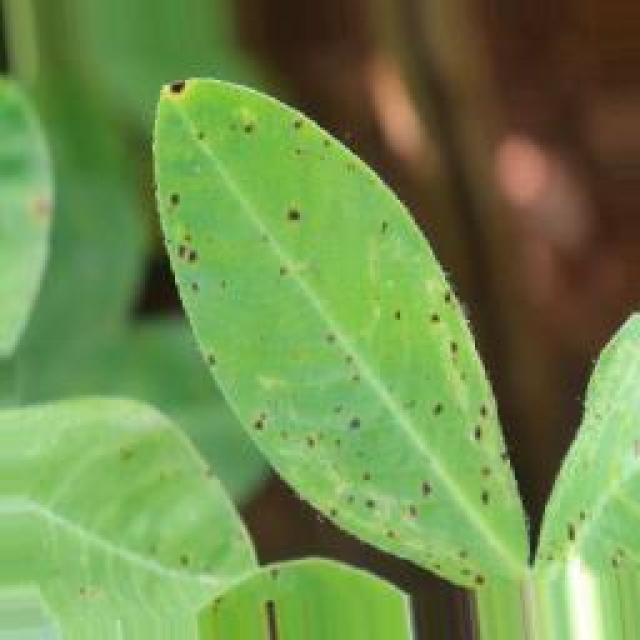Sigatoka: (290, 410, 486, 579), (352, 235, 478, 423), (444, 360, 536, 518), (194, 317, 292, 452), (211, 74, 336, 166), (530, 479, 622, 566), (258, 196, 331, 301), (149, 174, 200, 300), (156, 66, 217, 115)
